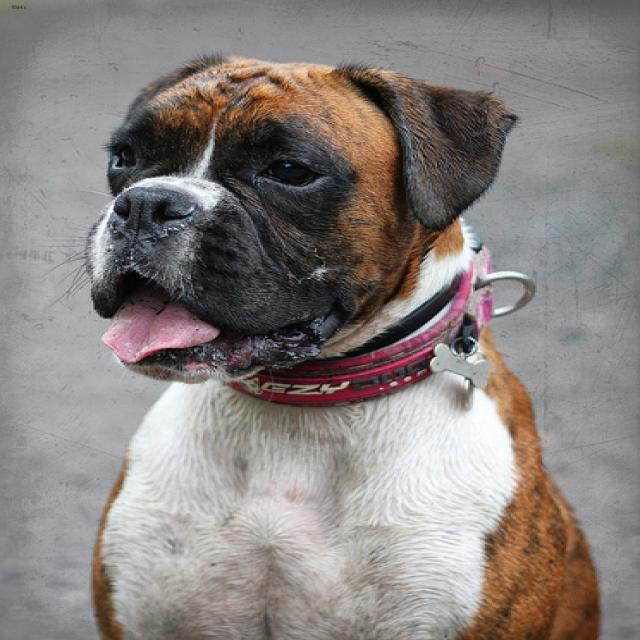dog-boxer: (29, 40, 616, 637)
